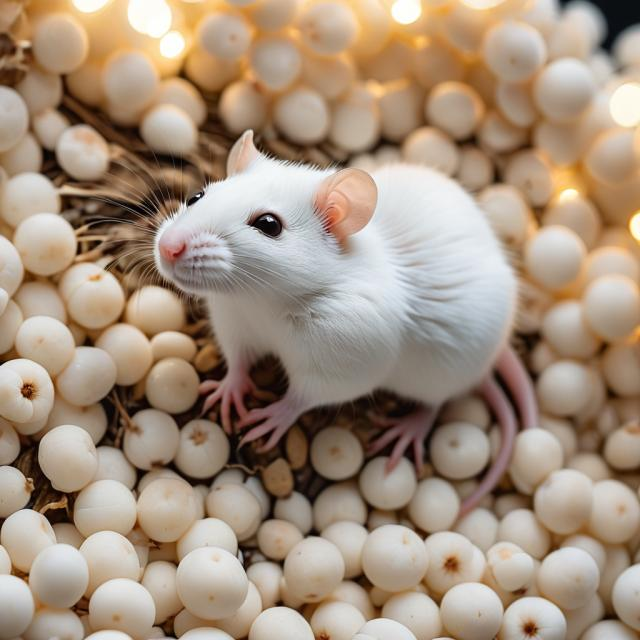rodents: (139, 118, 566, 428)
